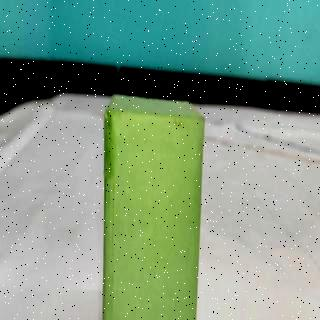greenbox: (103, 91, 207, 320)
